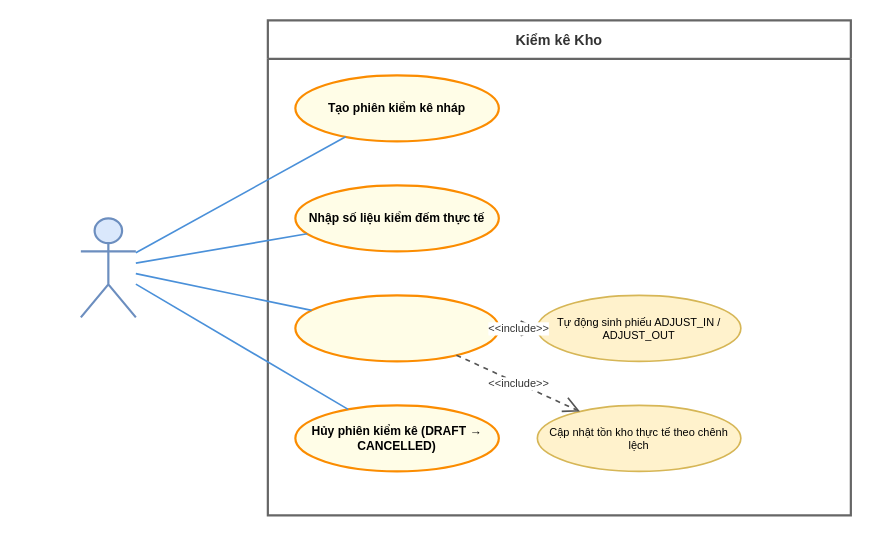
The diagram is 871 pixels wide and 535 high, and some of its shapes have lost their labels. Here are the shapes that lost their labels. From the top down, the centre of each, then its label:
At [107,267]: "Quản lý chi nhánh (MANAGER)".
At [396,328]: "Hoàn tất kiểm kê (DRAFT → COMPLETED)".
